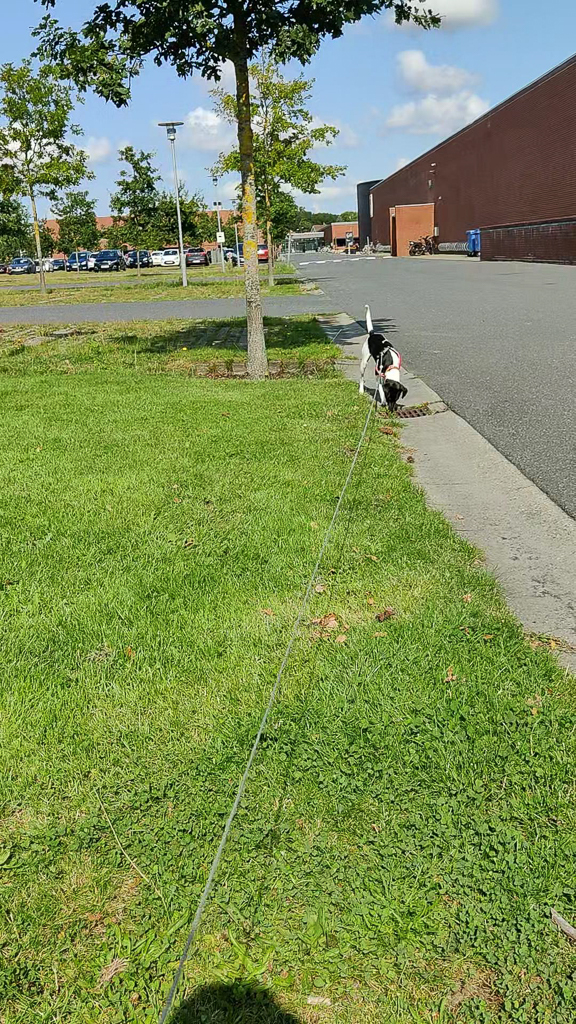Dog: (351, 299, 420, 419)
